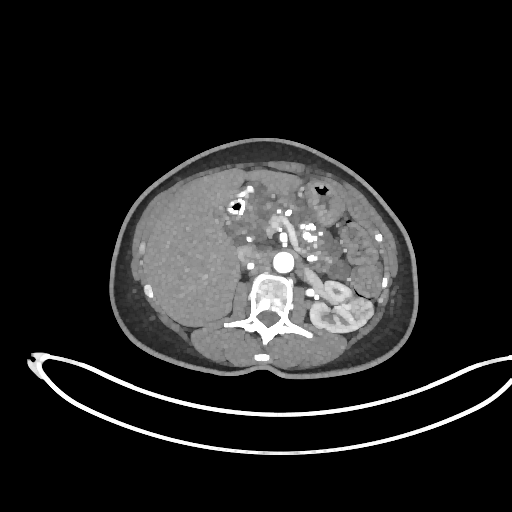Lesion: (349, 297, 374, 323)
